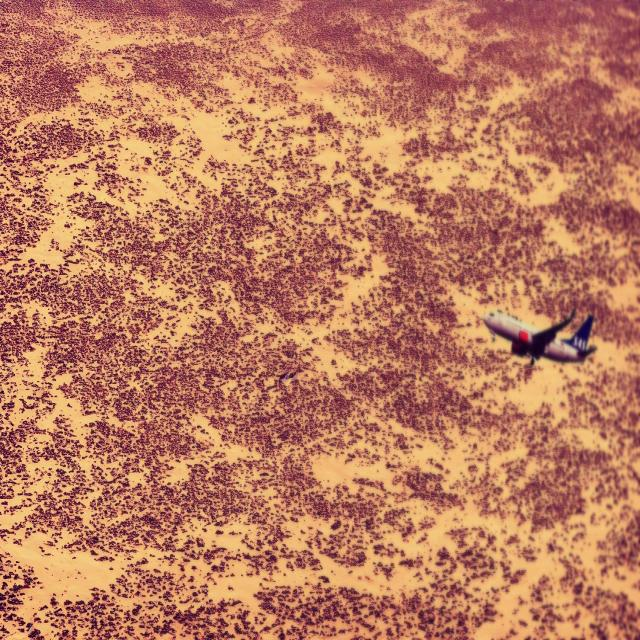airplane: (482, 306, 594, 366)
